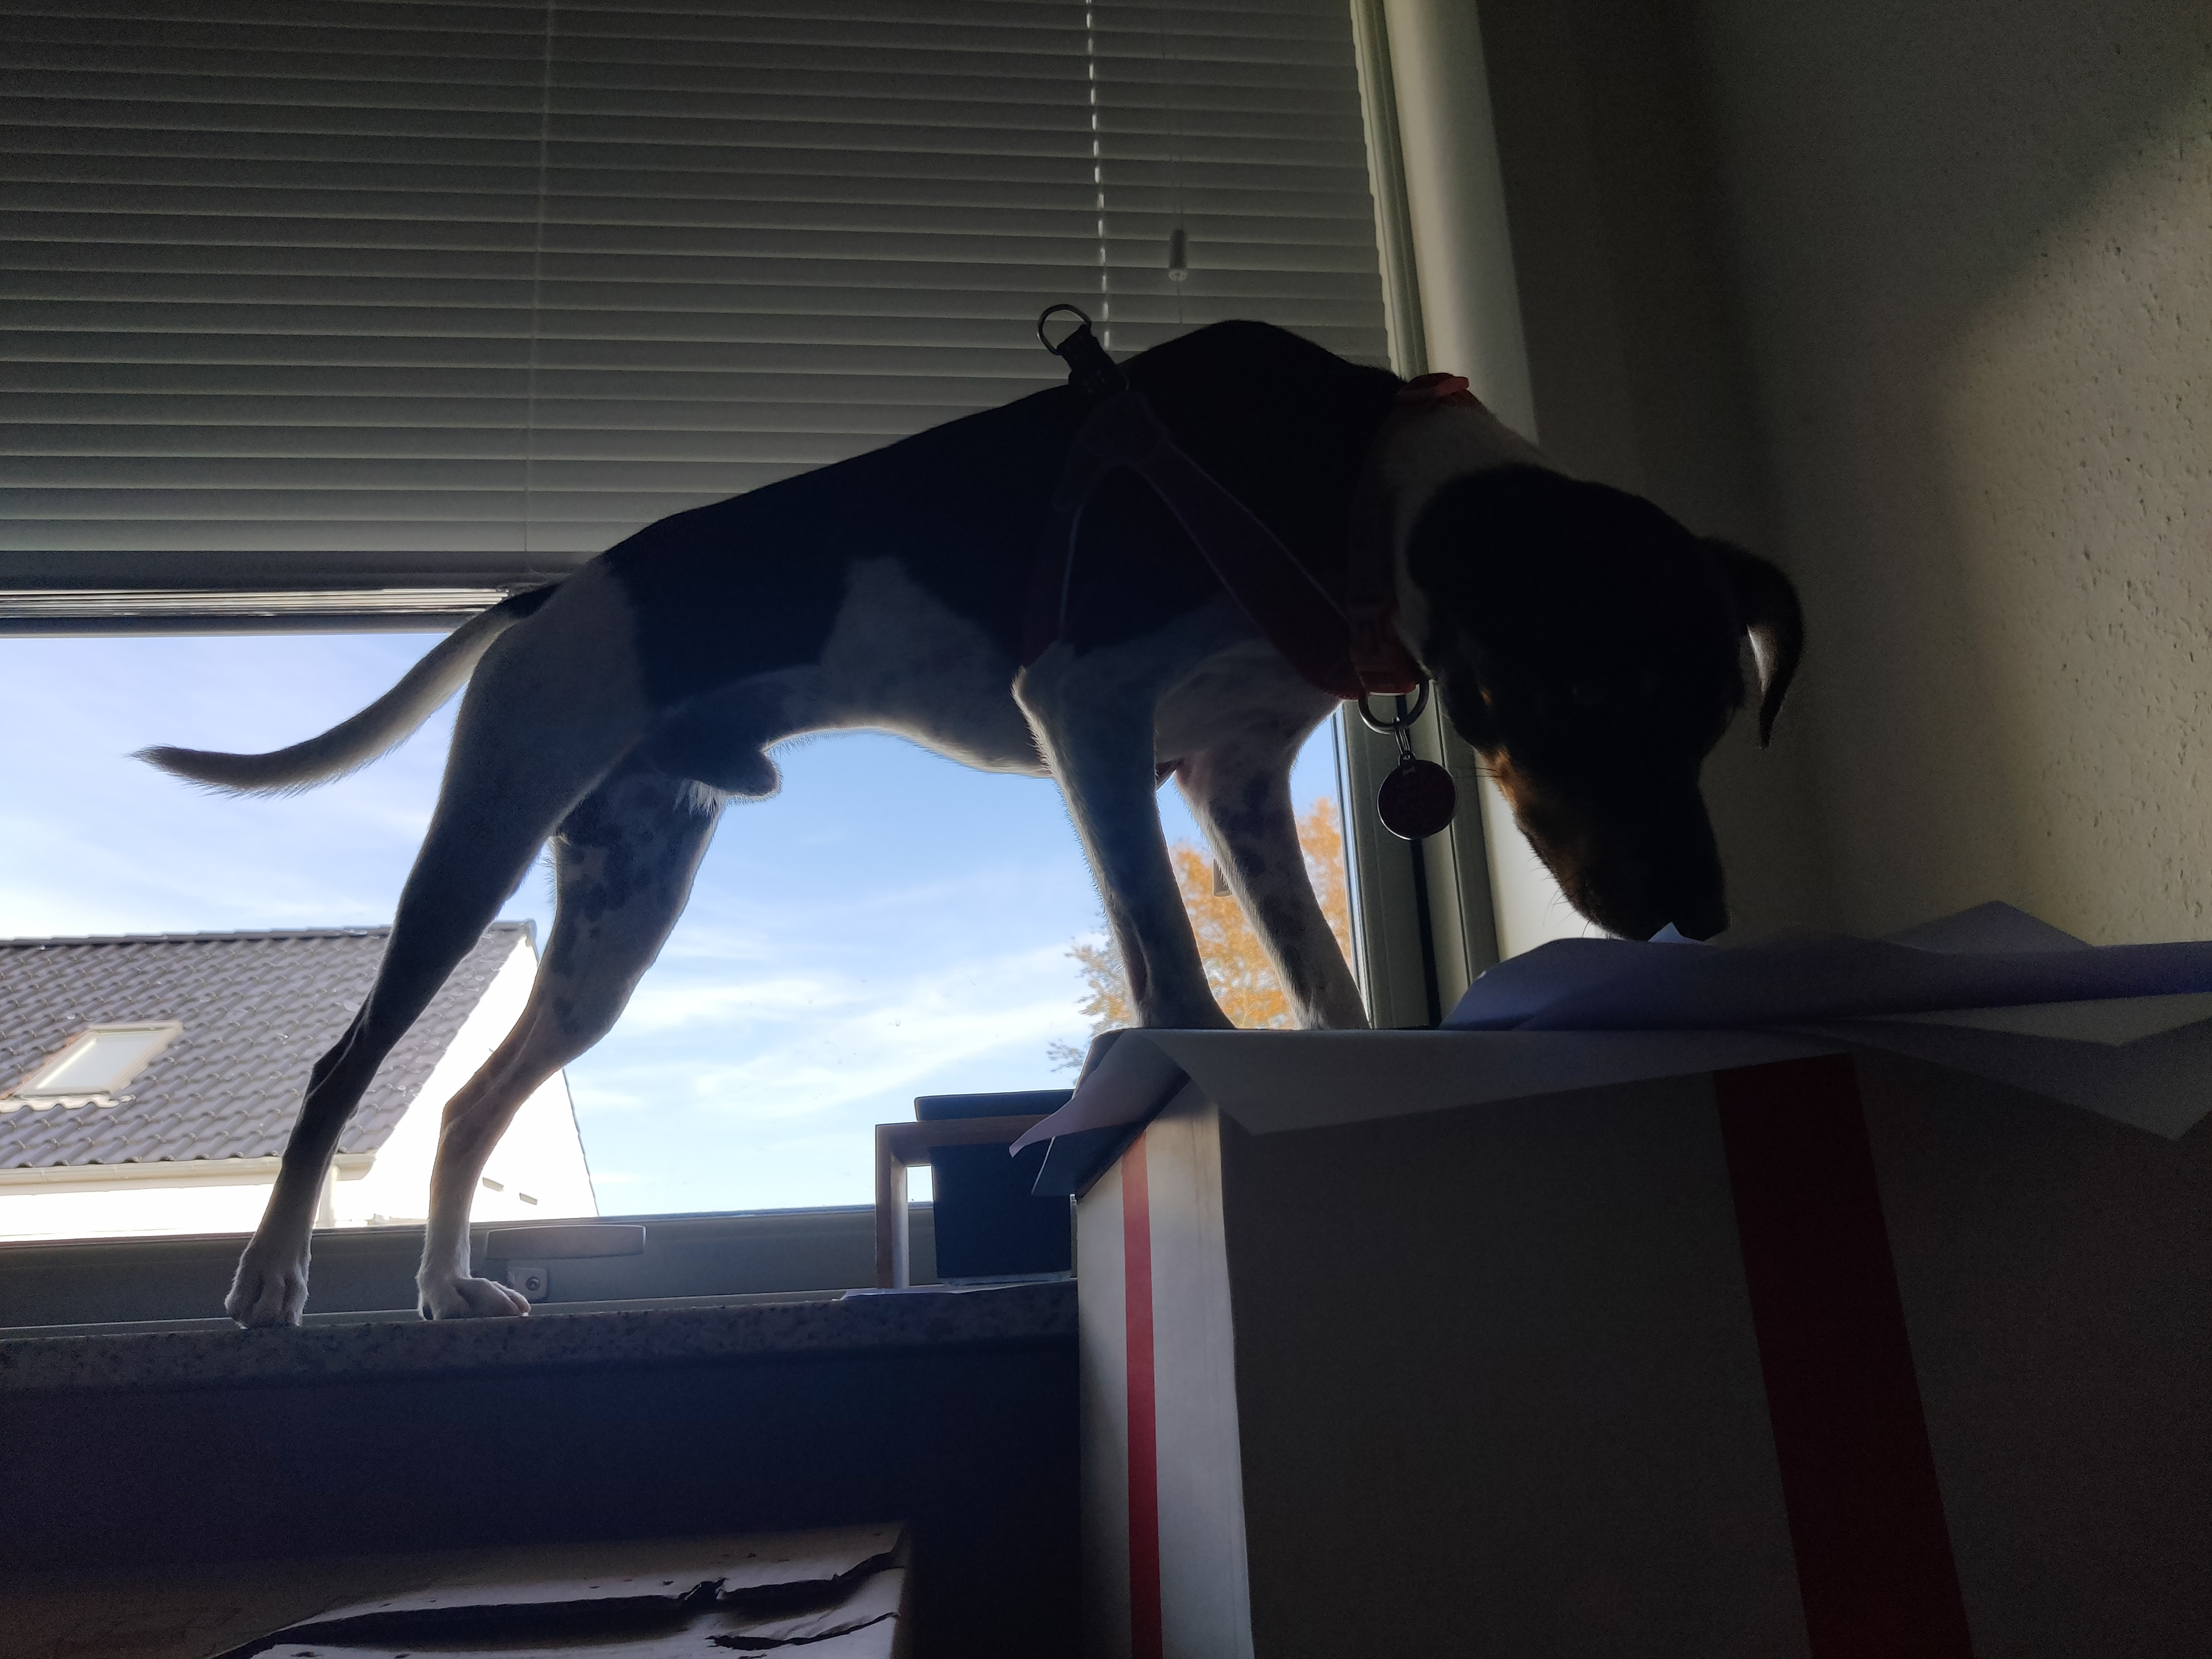Dog: (118, 303, 1820, 1347)
